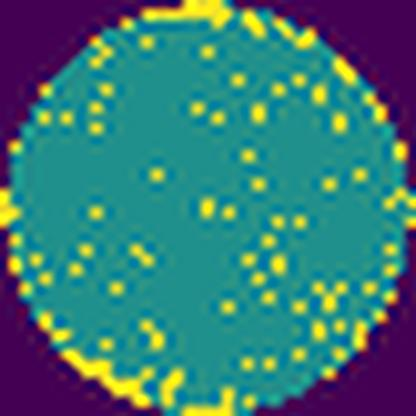Edge-Loc: (62, 348, 152, 406), (142, 0, 233, 31), (179, 380, 240, 415)
